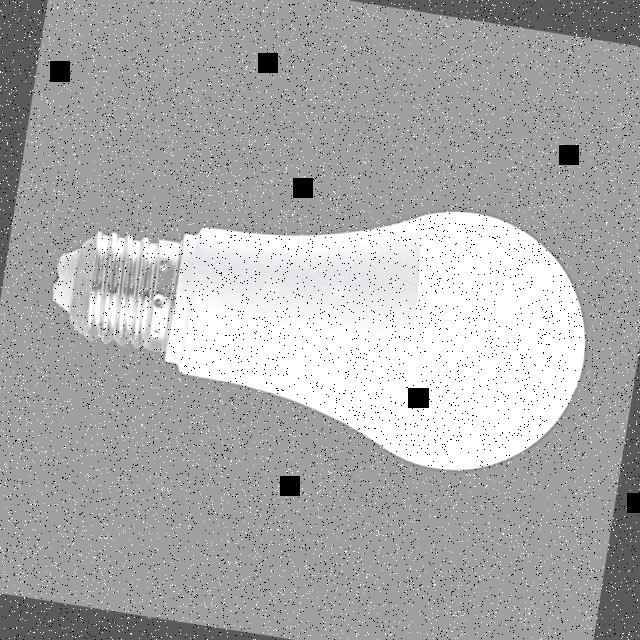light_bulb: (31, 147, 606, 492)
